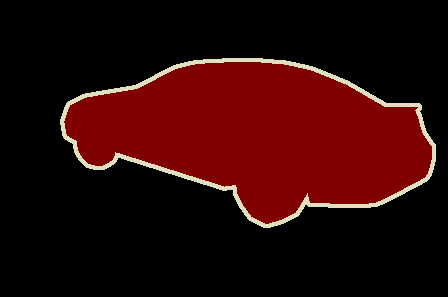car: (64, 60, 435, 224)
